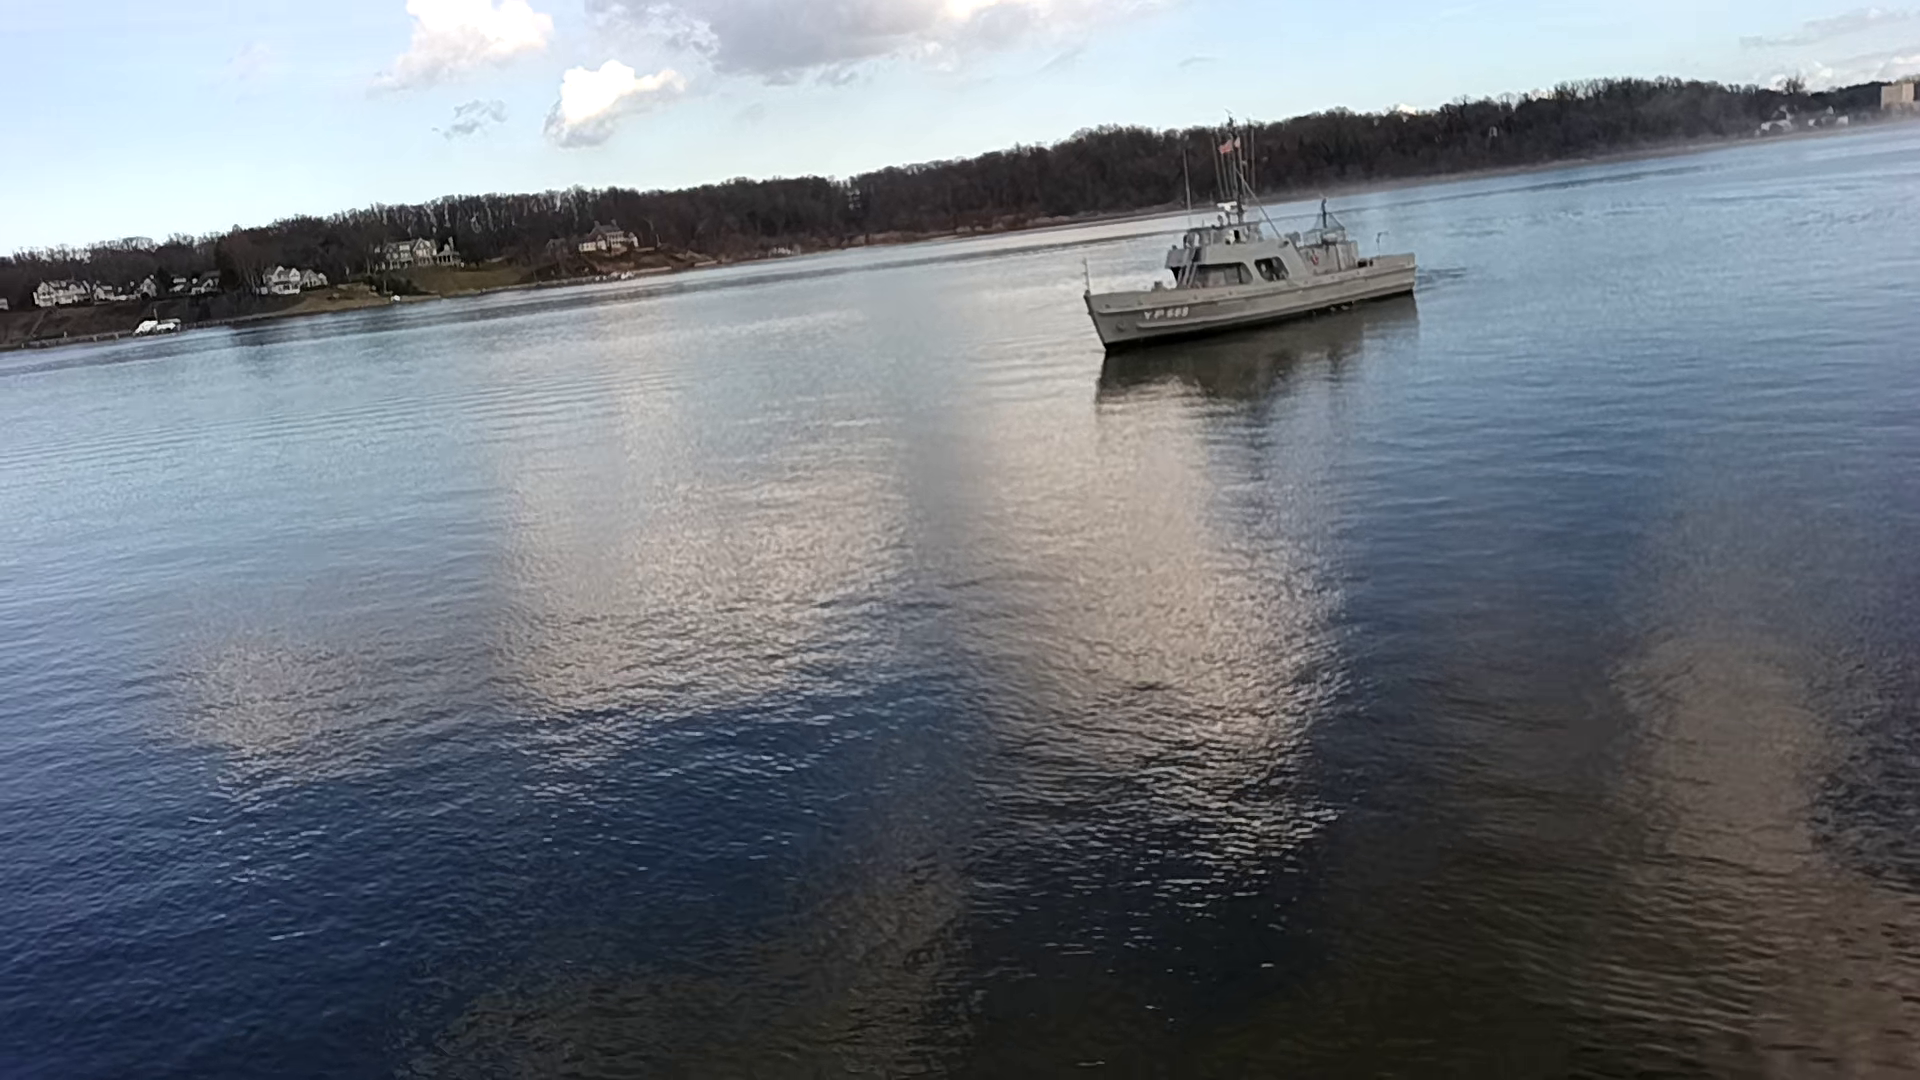YP689: (1084, 109, 1418, 356)
